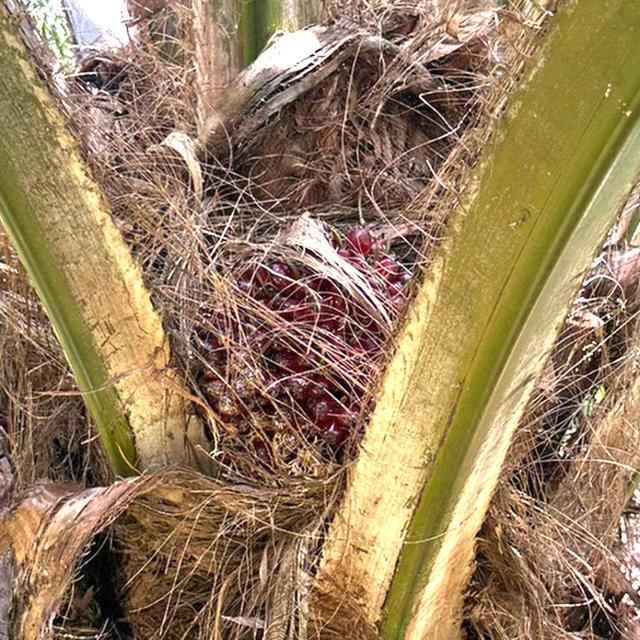ripe: (187, 207, 427, 444)
